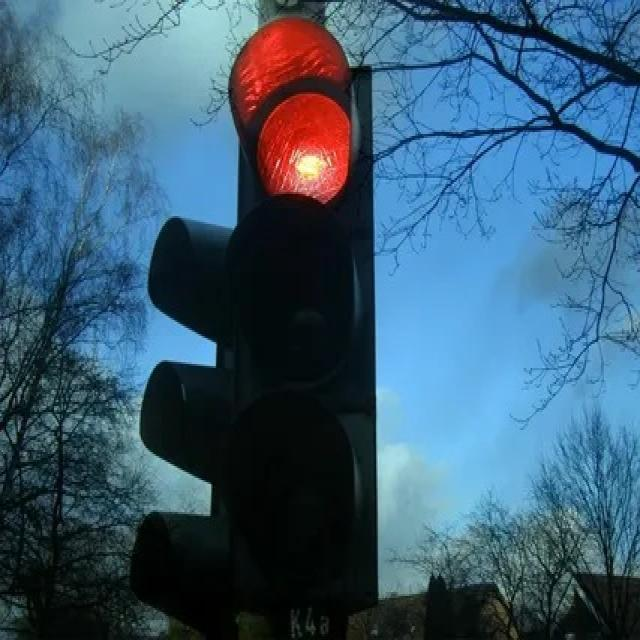kirmizi: (220, 17, 377, 605)
